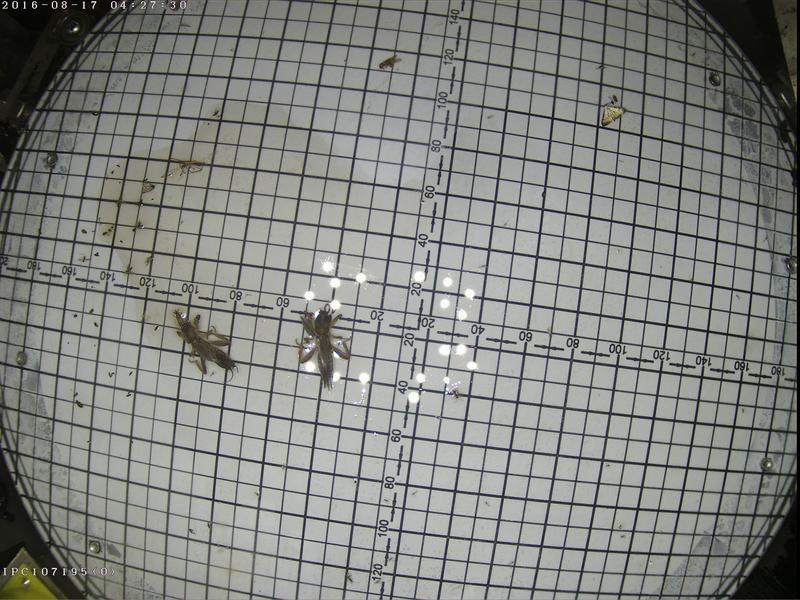Gryllotalpa orientalis: (164, 306, 244, 381), (294, 300, 357, 389)
Rice Leaf Roller: (597, 101, 630, 123)
